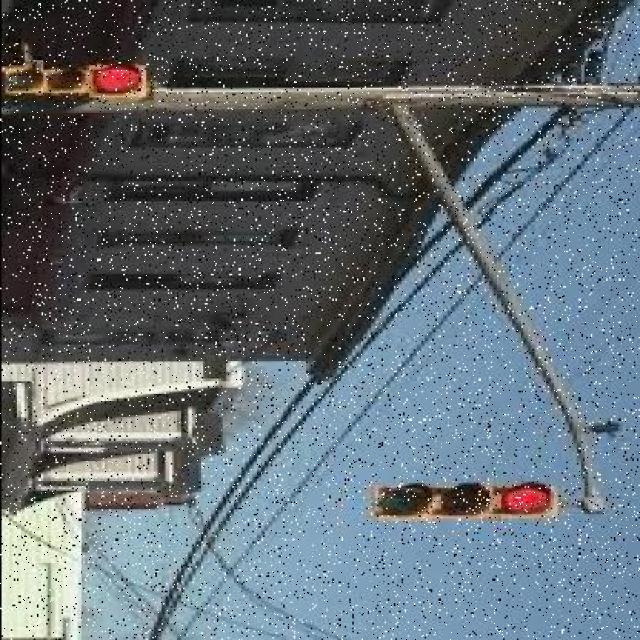red-light: (10, 54, 167, 118), (357, 476, 569, 522)
